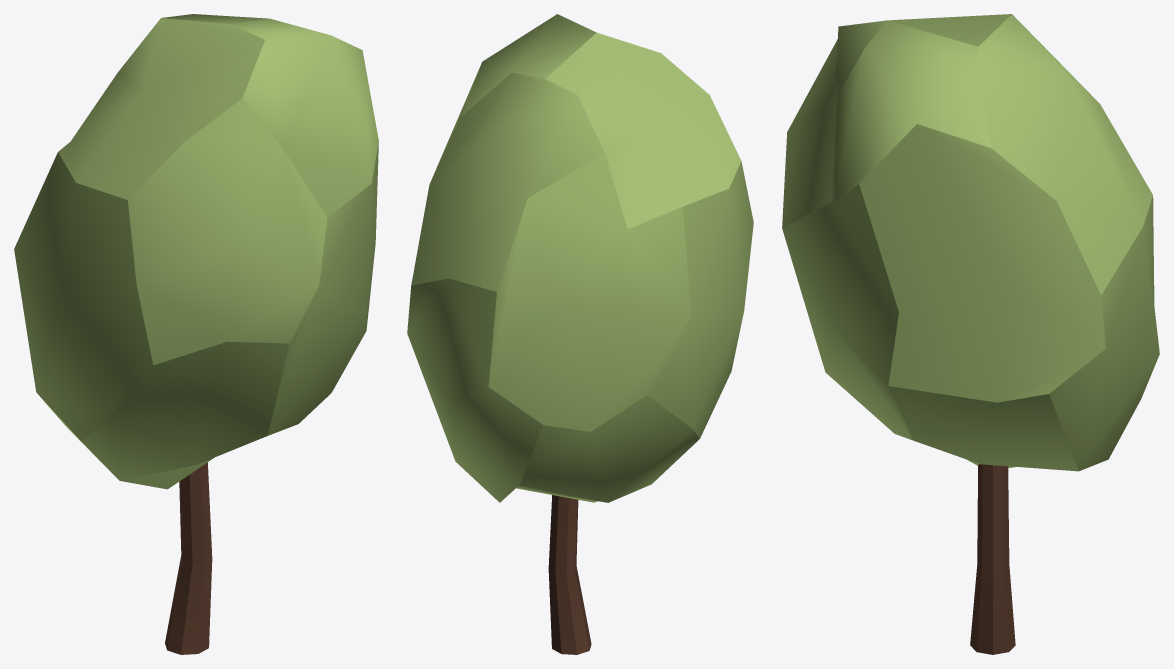
Rendered from tree_round_01.fbx.
3 views of the same model, side by side, from view 1: azimuth 30°, elevation 25°; view 2: azimuth 150°, elevation 25°; view 3: azimuth 270°, elevation 25° (orthographic). The views are drawn at different scales.
Parts seen in each view (by area): view 1: tree_round_01; view 2: tree_round_01; view 3: tree_round_01.
Part boxes in pixels (x1,y1,x2,y2): tree_round_01: [14, 14, 378, 654]; tree_round_01: [407, 14, 753, 654]; tree_round_01: [782, 14, 1159, 654].
Size of the model in its own units: 1.53 by 2.89 by 1.55.
